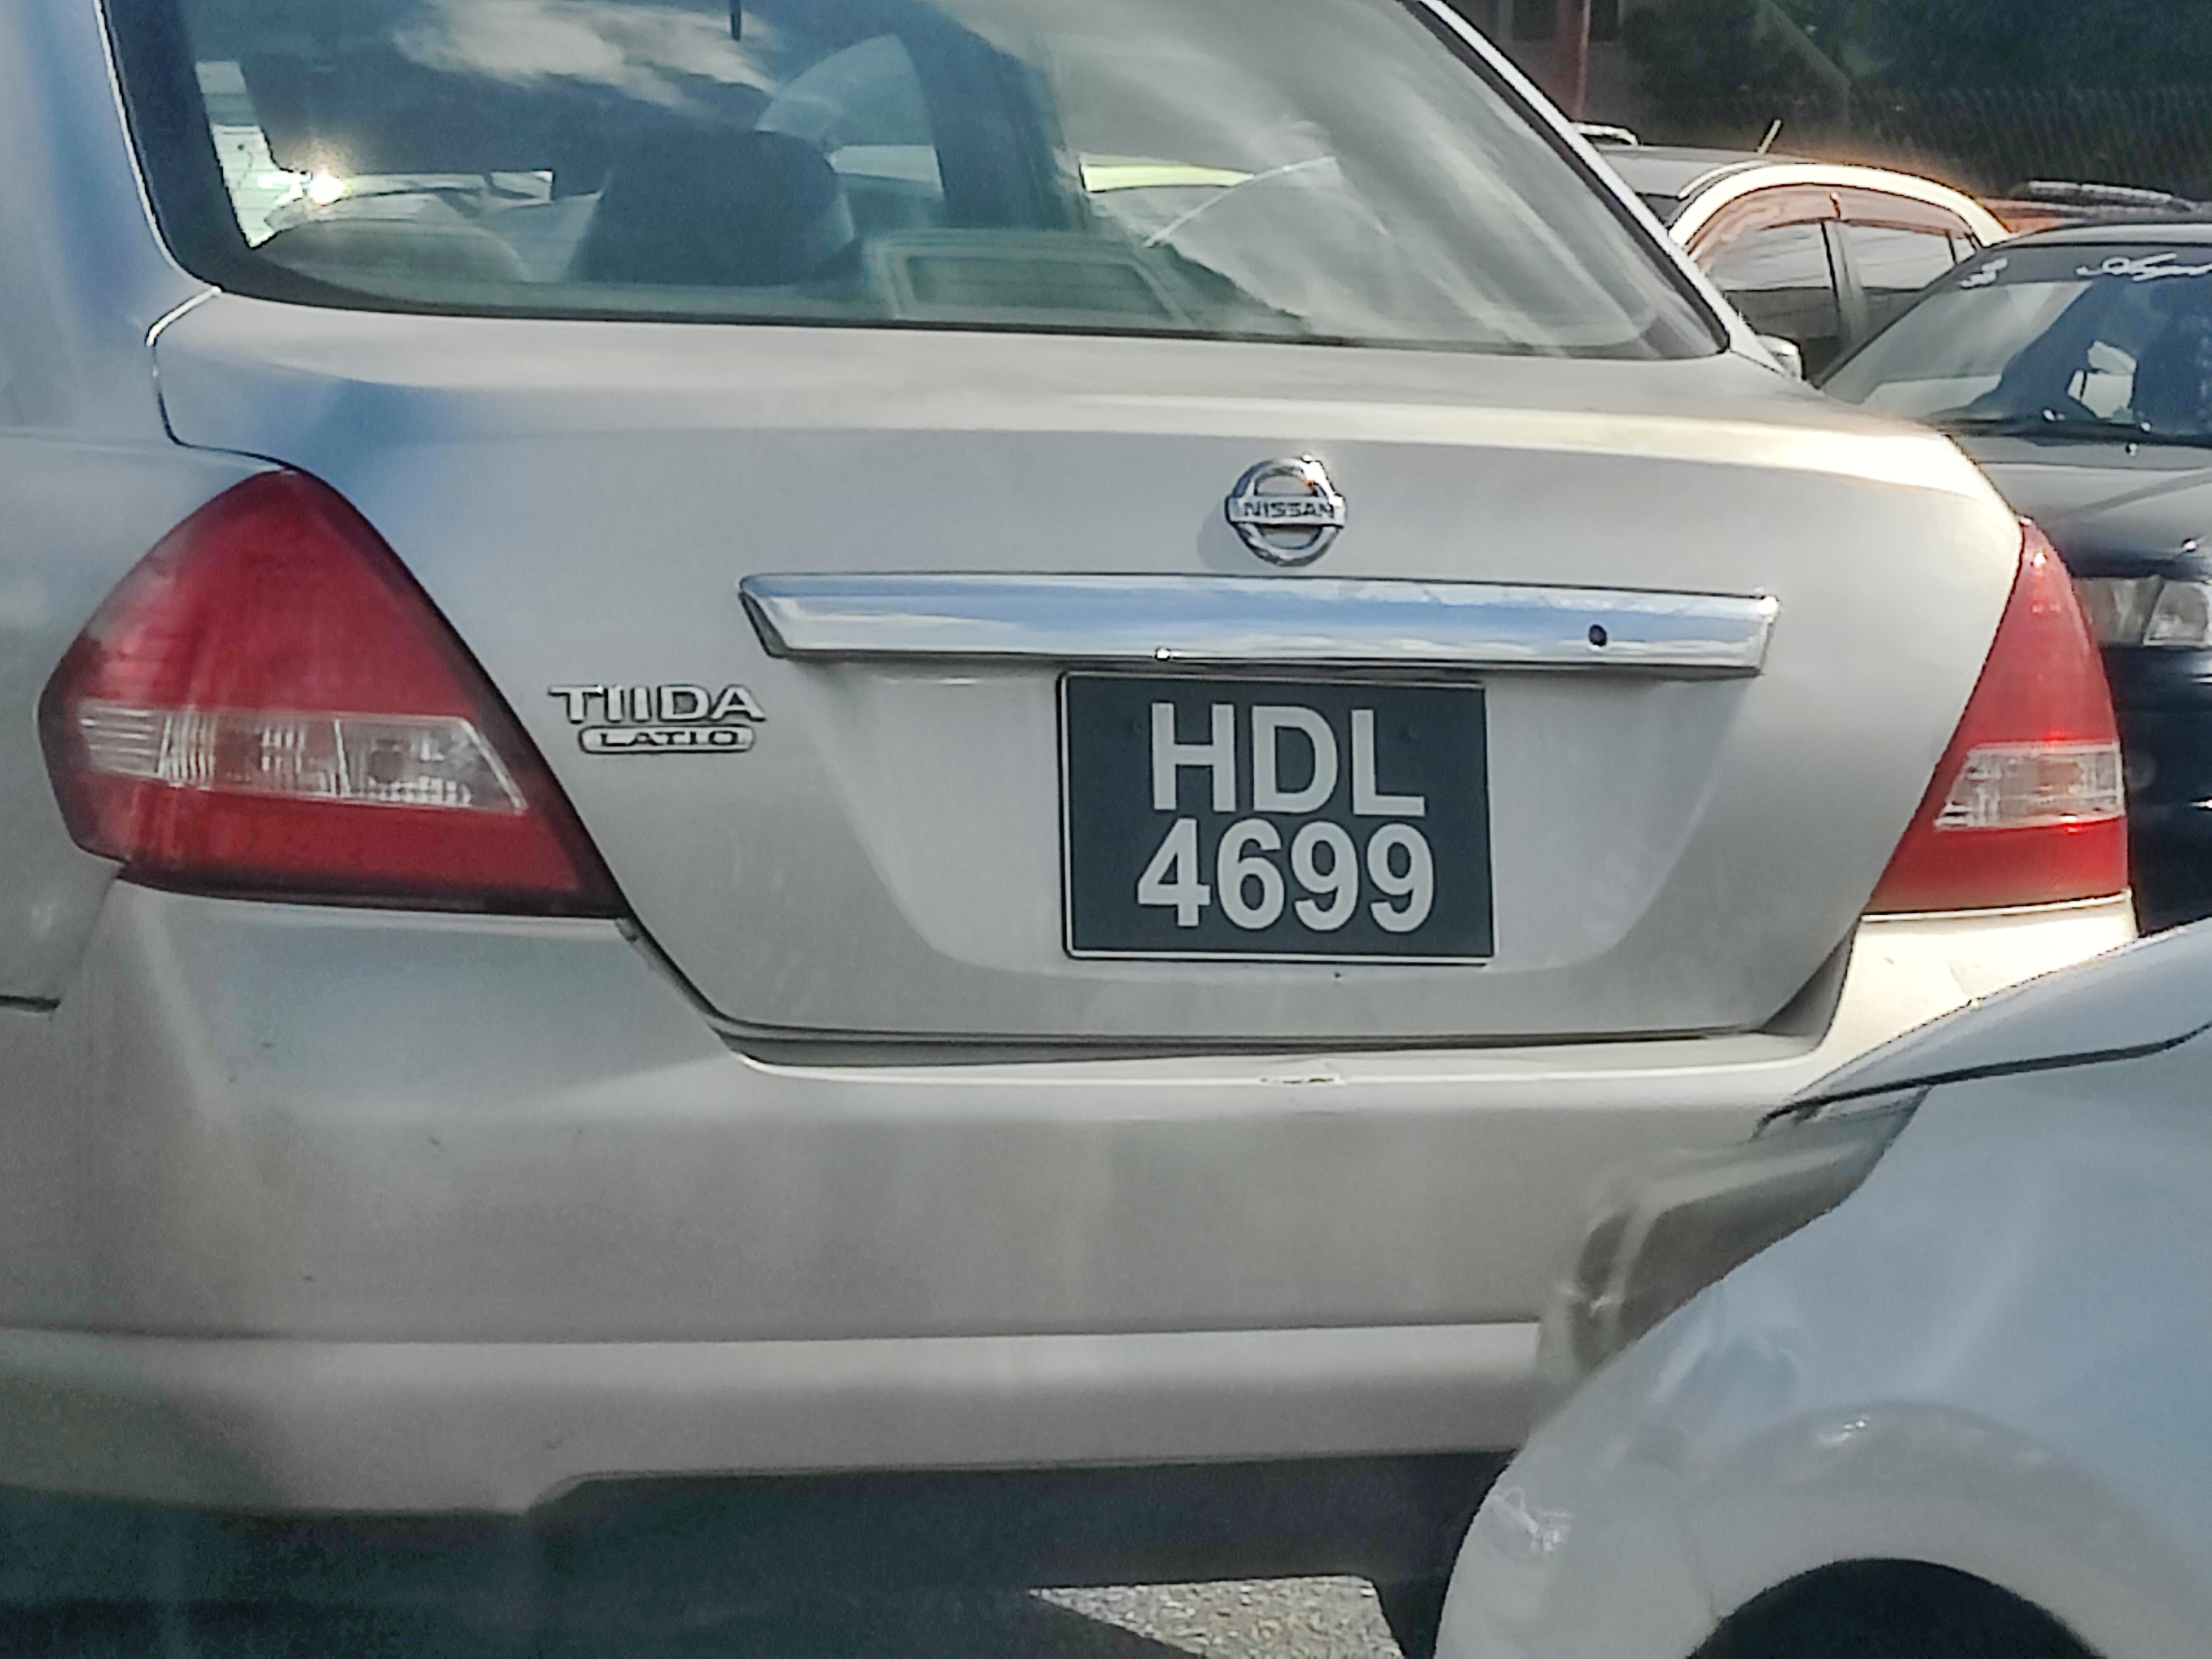License-Plate: (1067, 681, 1485, 951)
